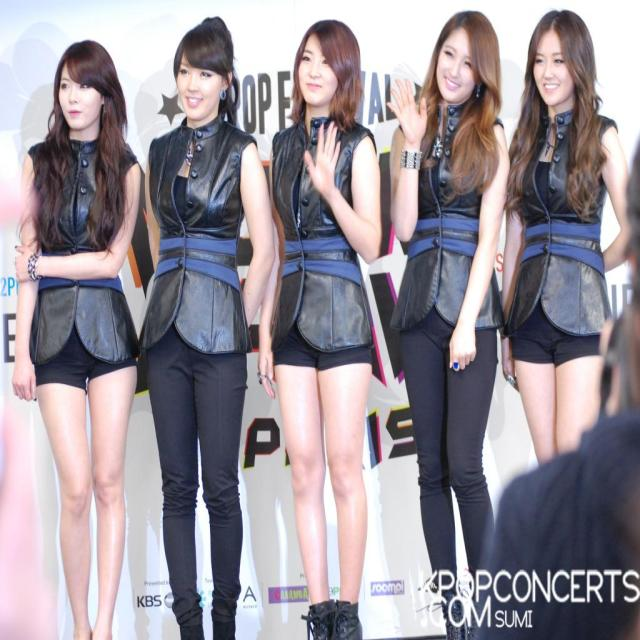Face: (286, 36, 345, 116), (527, 24, 580, 110), (431, 31, 486, 104), (172, 49, 219, 131), (51, 65, 107, 129)
